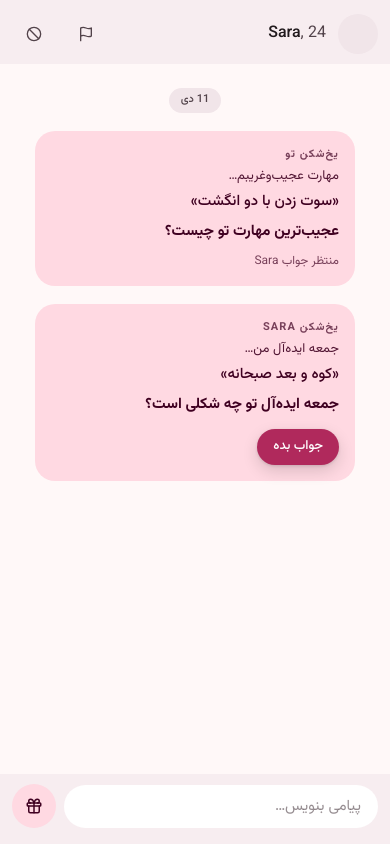
Chat icebreakers › tapping Answer puts the composer in reply mode against that icebreaker
Click the button "جواب بده" at (298, 446), box [257,428,339,464]
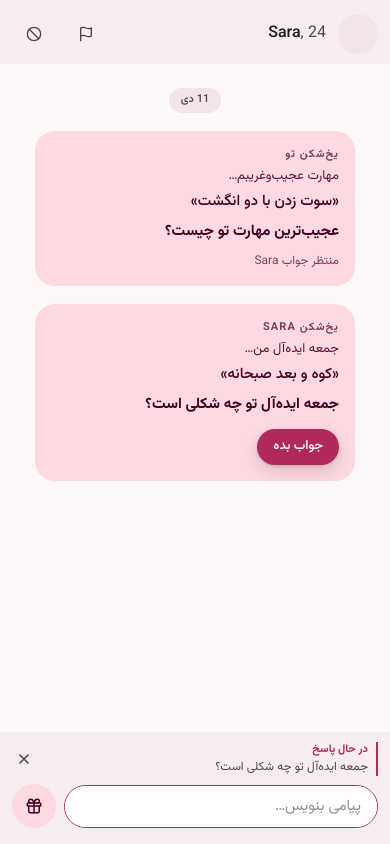
Check: the text "جمعه ایده‌آل تو چه شکلی است؟" is shown 2 times, box [145,393,339,416]; [215,758,368,776]
Check: the text "در حال پاسخ" is shown, box [312,740,368,758]
Type "کوه عالیه" into the text box with placeholder "پیامی بنویس…" at (221, 806), box [64,785,378,828]
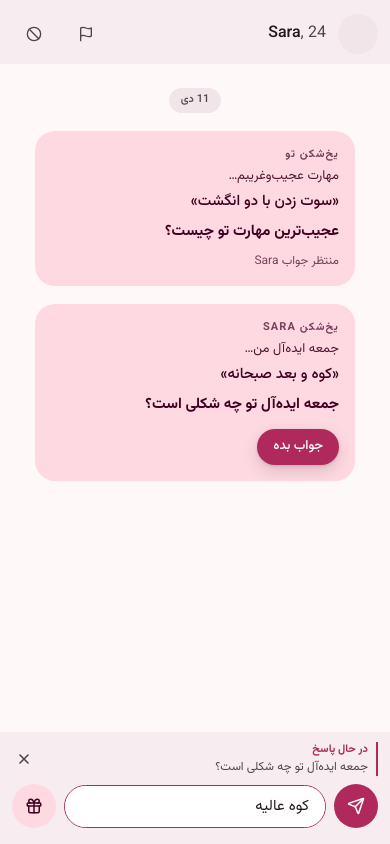
Click the button named "ارسال" at (356, 806), box [334,784,378,828]
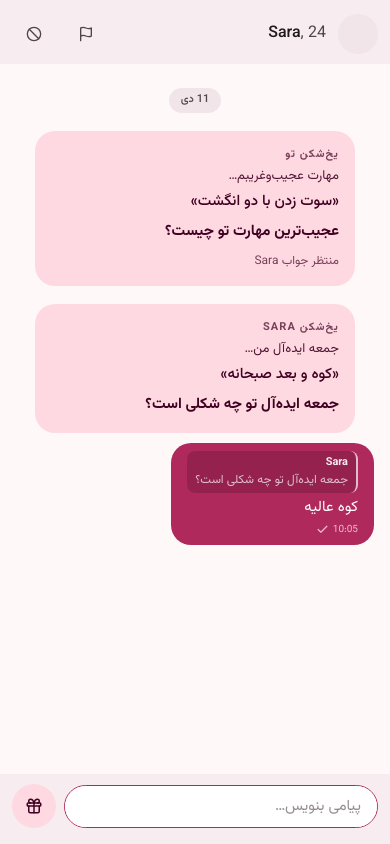
Check: the text "جمعه ایده‌آل تو چه شکلی است؟" is shown 2 times, box [145,393,339,416]; [195,471,348,489]
Check: the text "Sara" is shown, box [326,454,348,470]
